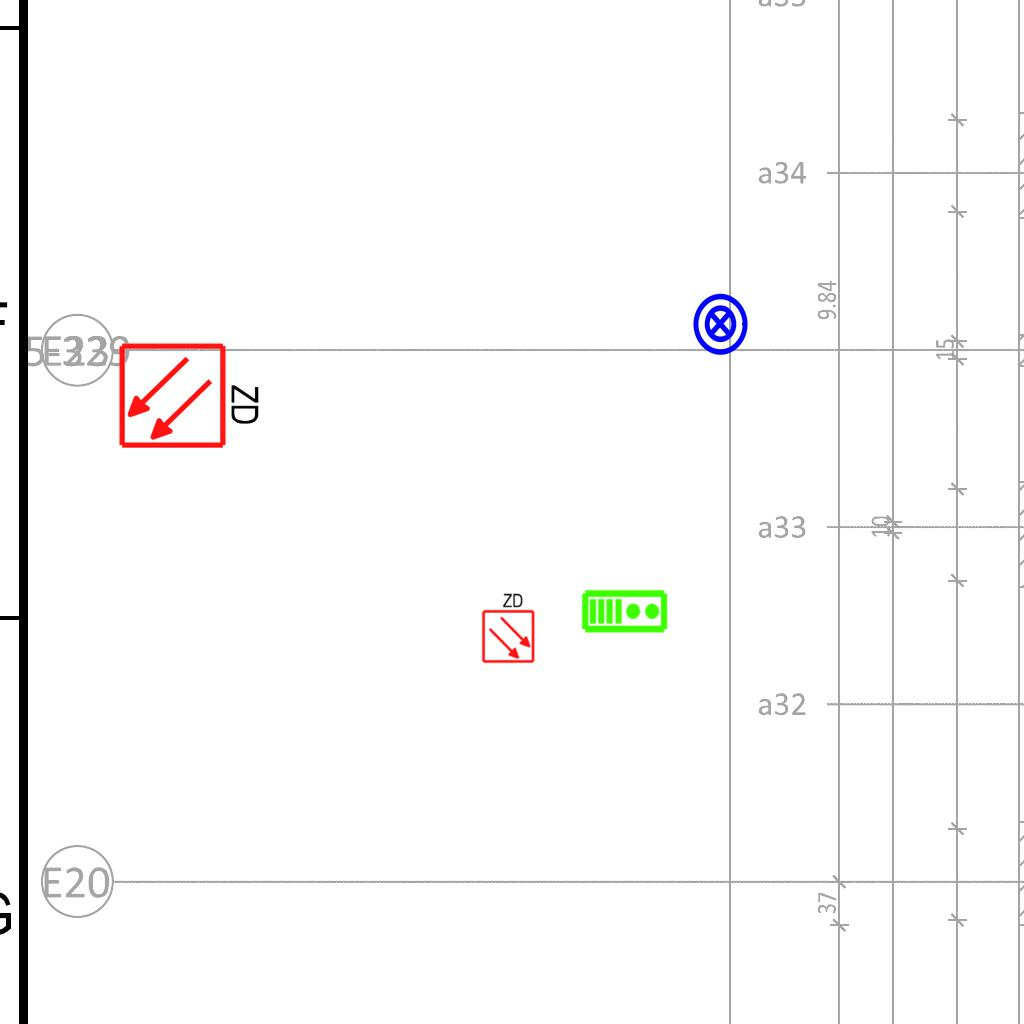Gegensprechanlage_mit_Video: (581, 587, 669, 634)
Taster_beleuchtet: (687, 291, 753, 357)
ZD_Melder_in_Zwischendecke_mit_Revisionsoeffnung_mind_40_x_40_cm: (117, 337, 266, 451), (479, 590, 536, 664)
